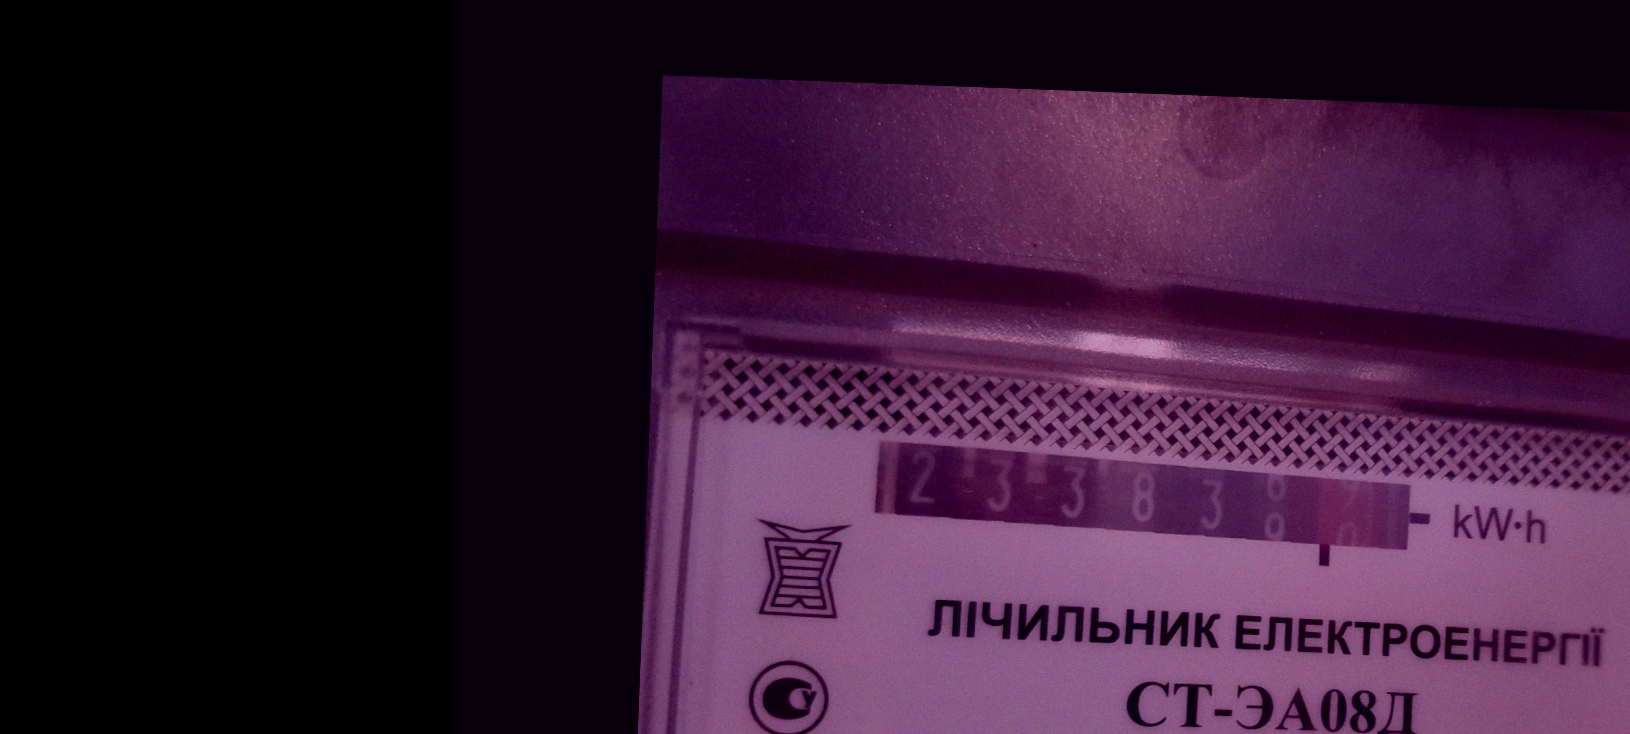0: (1334, 517, 1361, 552)
2: (903, 445, 944, 507)
3: (1053, 458, 1092, 523), (1198, 473, 1228, 530), (985, 454, 1015, 513)
8: (1126, 465, 1161, 525), (1264, 469, 1291, 502)
9: (1333, 474, 1365, 513), (1261, 507, 1290, 545)
screen: (844, 417, 1442, 595)
